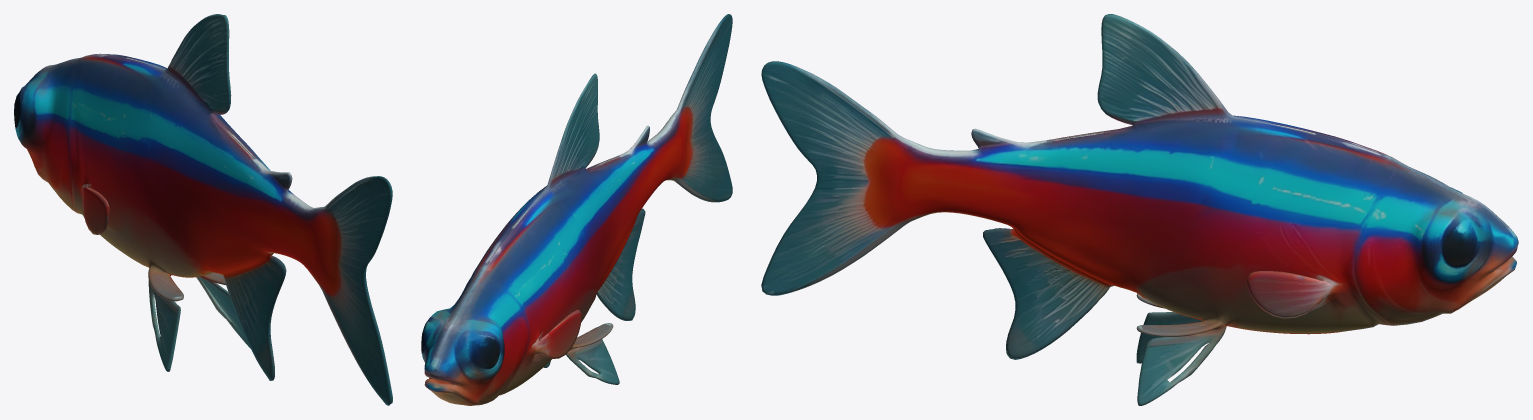
Rendered from cardinal-tetra.glb.
3 renders of one model, left to right at view 1: azimuth 30°, elevation 25°; view 2: azimuth 150°, elevation 25°; view 3: azimuth 270°, elevation 25°, orthographic. The views are drawn at different scales.
Visible parts, largest first — view 1: tripo_node_92270b96; view 2: tripo_node_92270b96; view 3: tripo_node_92270b96.
Boxes of the visible parts, x1,y1,x2,y2 form: tripo_node_92270b96: (14, 14, 392, 405); tripo_node_92270b96: (421, 14, 732, 405); tripo_node_92270b96: (761, 14, 1518, 405).
Bounding box in the file's own units: 0.1633 × 0.5389 × 0.9975.
1 material, 1 textured.
